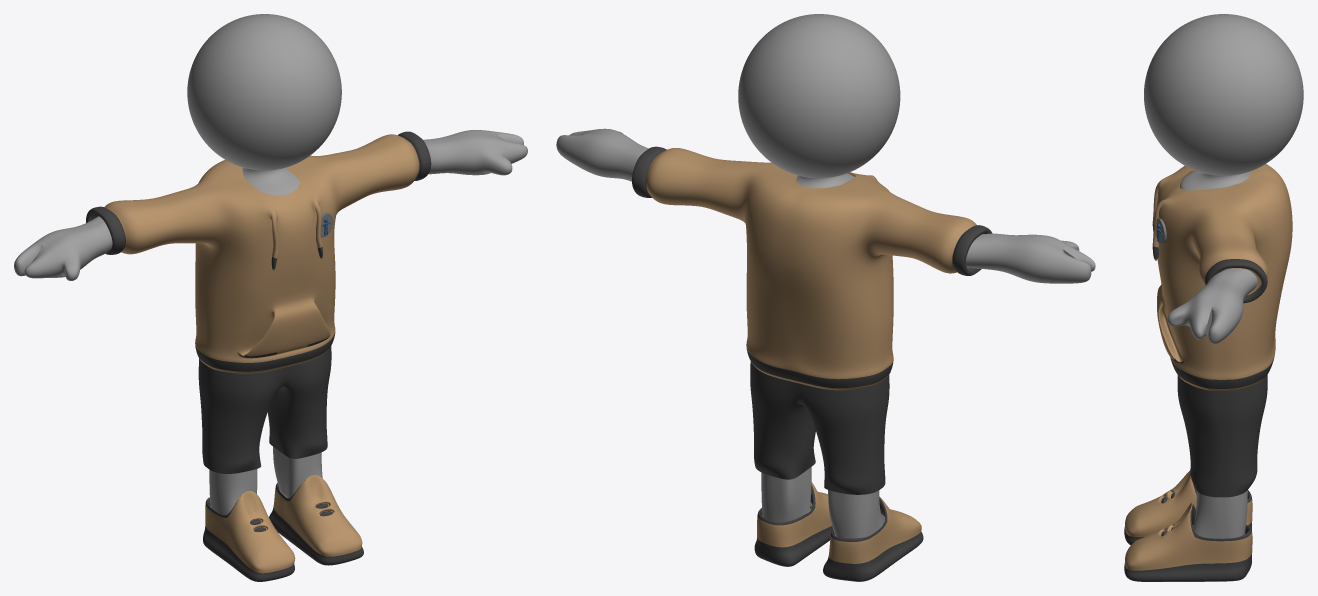
File: Eco Digital.fbx
3 views of the same model, side by side, from view 1: azimuth 30°, elevation 25°; view 2: azimuth 150°, elevation 25°; view 3: azimuth 270°, elevation 25° (orthographic). The views are drawn at different scales.
Parts seen in each view (by area): view 1: Cube.018, Sphere.006, Cube.019, Cube.016, Cube.020; view 2: Cube.018, Sphere.006, Cube.019, Cube.016, Cube.020; view 3: Cube.018, Sphere.006, Cube.020, Cube.019, Cube.016.
Boxes of the visible parts, x1,y1,x2,y2 form: Cube.018: (86,131,431,373); Sphere.006: (187,14,341,195); Cube.019: (198,346,331,473); Cube.016: (14,130,527,514); Cube.020: (203,475,363,581); Cube.018: (632,146,992,390); Sphere.006: (738,14,900,187); Cube.019: (750,361,889,494); Cube.016: (556,128,1095,538); Cube.020: (754,482,923,581); Cube.018: (1152,164,1292,390); Sphere.006: (1144,14,1303,190); Cube.020: (1124,470,1252,581); Cube.019: (1177,375,1267,497); Cube.016: (1167,268,1257,538).
Bounding box in the file's own units: 1355 × 1320 × 401.
